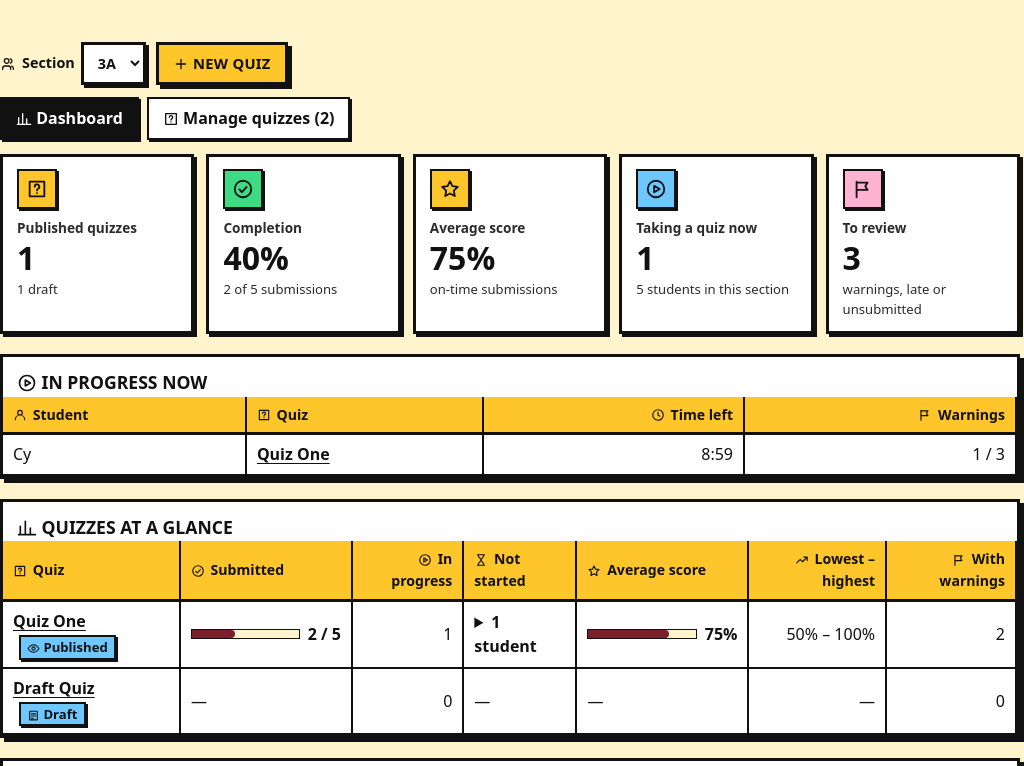
Scenario: quizzes tab › shows a student number, never the secret key, next to a student who has not started
Click the button "Quiz One" in the row of "2 / 5".
click(49, 622)  # box [13,609,86,634]
(page scrolled)
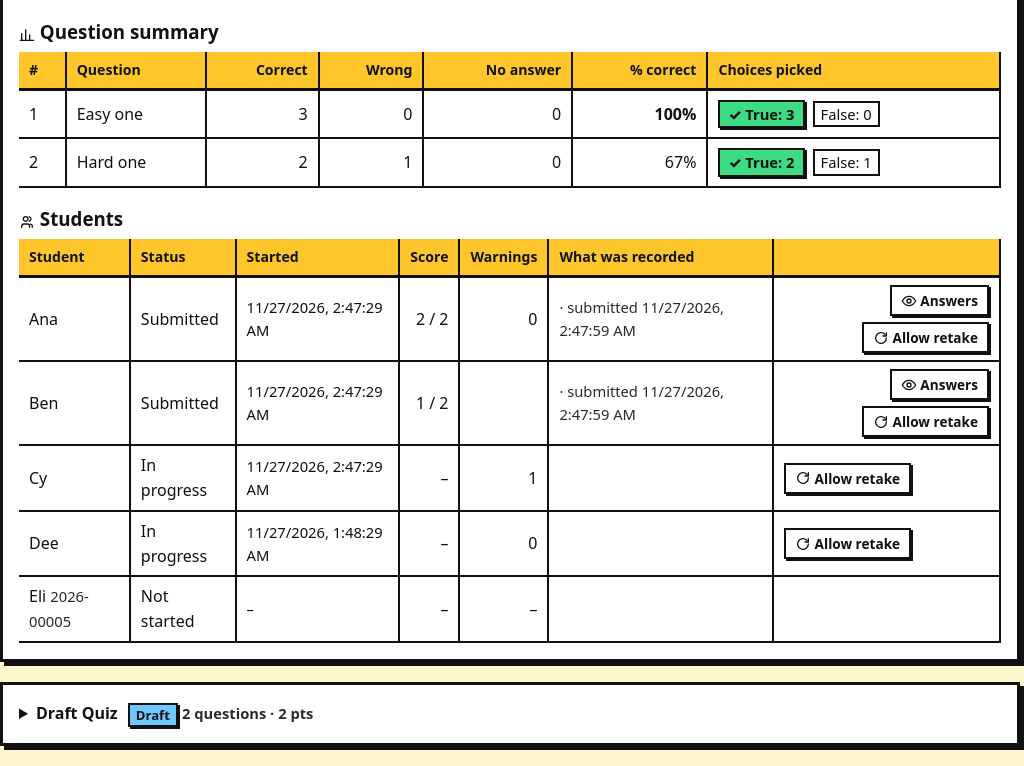
Now the text "Eli" shows "2026-00005", box [29,586,89,631]
